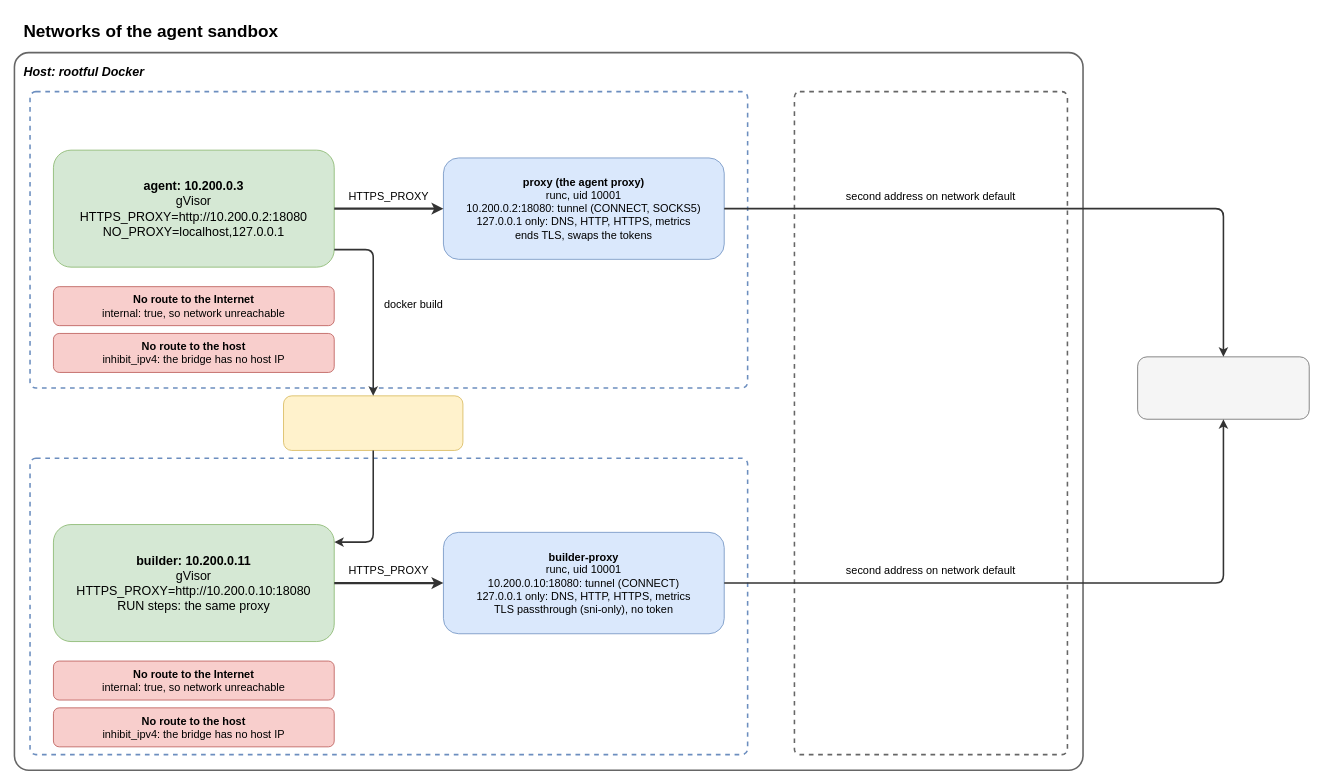
Some shapes in this 1323 by 784 pixel diagram are drawn without their labels. The box of each missing label's shape, as (x1, y1, x2, y2) in pixels:
Internet allowed hosts only: (1137, 356, 1309, 419)
Network build: internal, 10.200.0.8/29: (29, 457, 748, 755)
Network default: Compose bridge: (793, 90, 1068, 755)
Network sandbox: internal, 10.200.0.0/29: (29, 90, 748, 388)
Volume buildkit-sock buildkitd.sock, a Unix socket, not a network: (283, 395, 463, 450)
